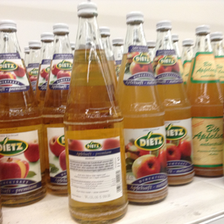juice: (64, 3, 130, 222), (116, 10, 168, 207), (1, 20, 47, 207), (152, 15, 194, 187), (187, 25, 223, 176)
